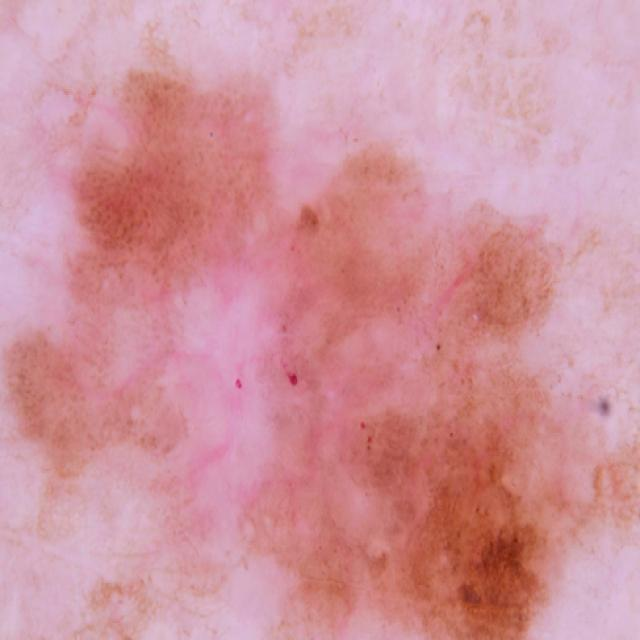Carcinoma: (54, 62, 594, 640)
